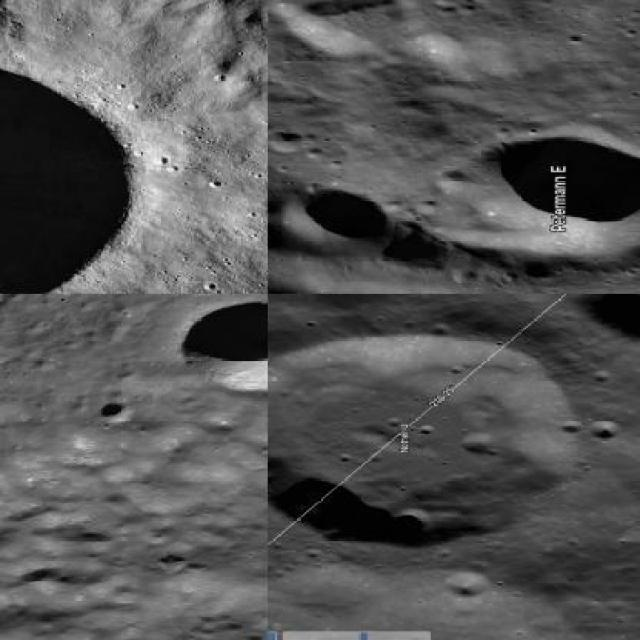crater: (268, 334, 590, 546), (0, 43, 135, 292), (444, 131, 638, 255), (177, 298, 266, 394), (282, 184, 392, 253), (444, 571, 490, 595), (99, 399, 132, 423), (589, 418, 620, 440)
